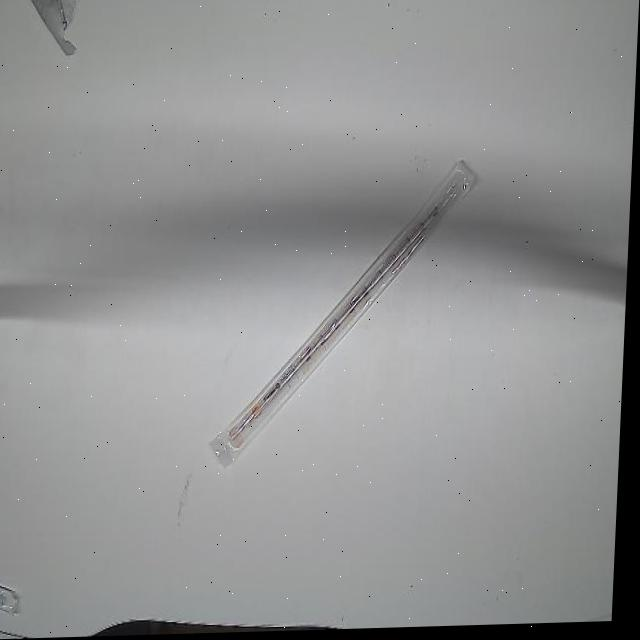Serelogical Pipet 10 mL - Sealed: (211, 151, 485, 471)
